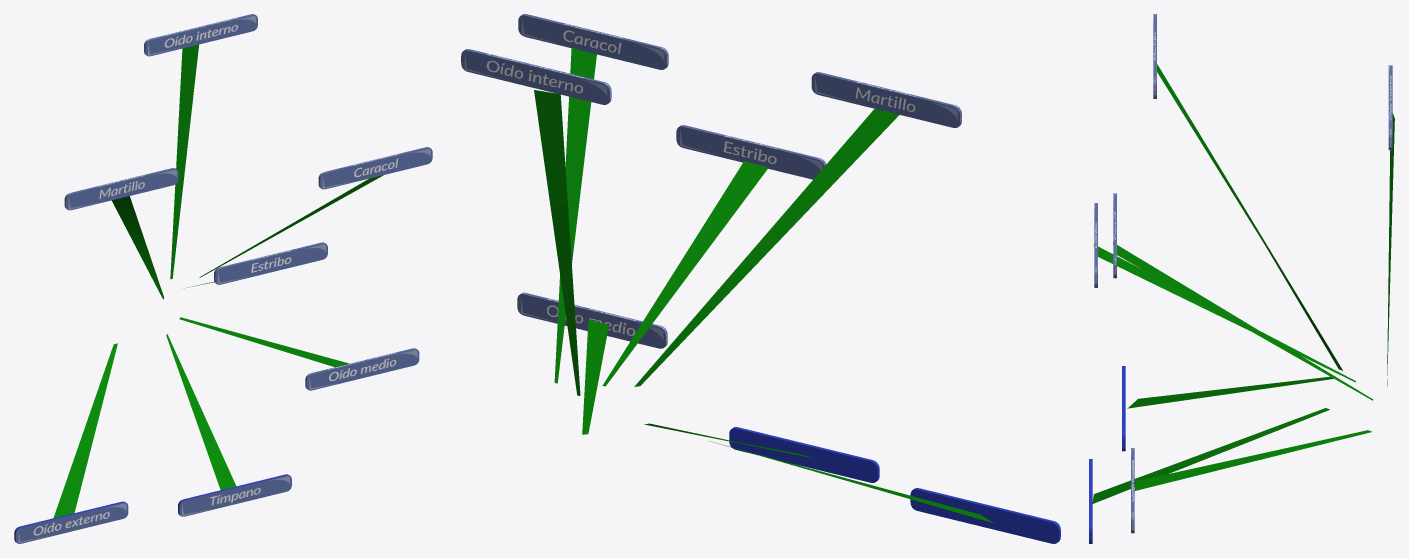
The model's file is partes_german_oido.fbx.
The picture shows the model from 3 angles, left to right: view 1: azimuth 30°, elevation 25°; view 2: azimuth 150°, elevation 25°; view 3: azimuth 270°, elevation 25°; orthographic projection. The views are drawn at different scales.
Visible parts, largest first — view 1: Box012; view 2: Box012; view 3: Box012.
Part boxes in pixels (x1=…): Box012: x1=14, y1=14, x2=432, y2=543; Box012: x1=461, y1=14, x2=1060, y2=543; Box012: x1=1089, y1=14, x2=1394, y2=543.
Bounding box in the file's own units: 7.8 × 6.66 × 3.96.
Materials: 9 (7 with a texture image).
